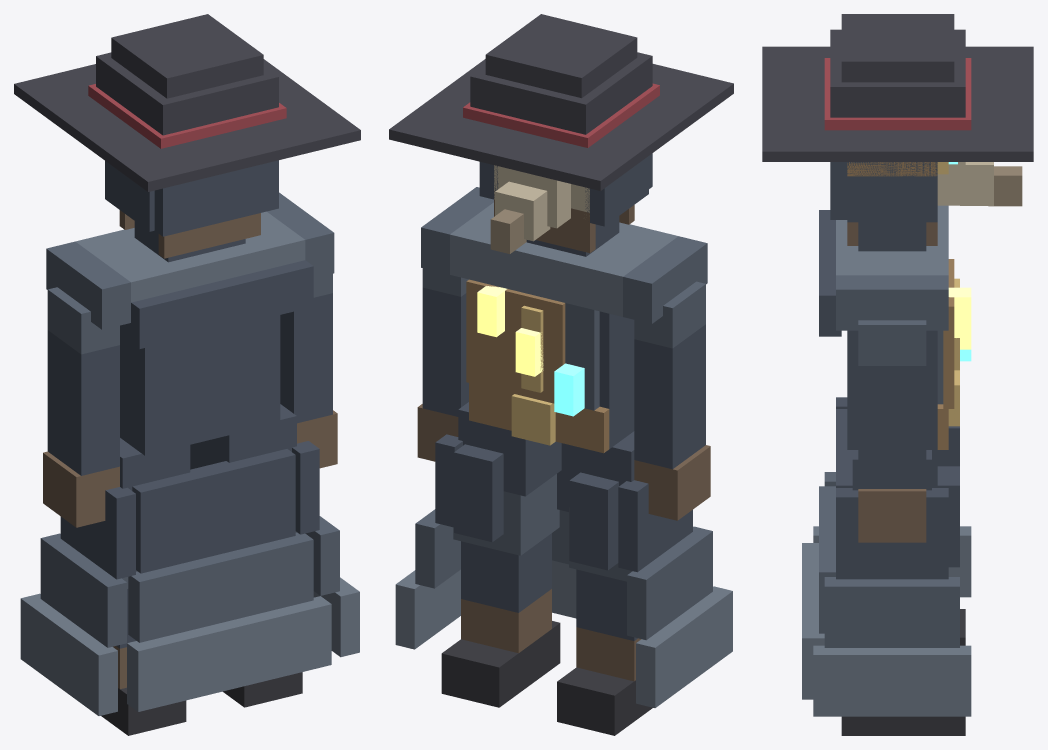
Rendered from voxel_plague_doctor_64px.glb.
The picture shows the model from 3 angles, left to right: view 1: azimuth 30°, elevation 25°; view 2: azimuth 150°, elevation 25°; view 3: azimuth 270°, elevation 25°; orthographic projection.
Parts seen in each view (by area): view 1: skirt_rear_upper, skirt_rear_lower, skirt_rear_mid, torso_core, hat_brim_back, cape_mantle_back, hat_crown_top, cape_mantle_center, skirt_side_right_lower, hat_crown_base, pelvis_core, skirt_side_right_mid (+25 smaller); view 2: cape_mantle_center, hat_brim_front, hat_crown_top, skirt_side_right_lower, hat_crown_base, potion_strap_diag, skirt_side_right_mid, shin_left, cape_mantle_right, skirt_front_fold_left, skirt_front_fold_right, upper_arm_right (+45 smaller); view 3: skirt_side_left_lower, skirt_side_left_mid, hat_brim_back, hat_brim_front, hat_crown_top, skirt_side_left_upper, hat_crown_base, cape_mantle_left, mask_hood_sides_left, upper_arm_left, forearm_left, cape_mantle_center (+26 smaller).
Part boxes in pixels (x1,y1,x2,y2): skirt_rear_upper: [132, 449, 295, 573]; skirt_rear_lower: [127, 596, 331, 711]; skirt_rear_mid: [128, 532, 313, 642]; torso_core: [120, 315, 280, 415]; hat_brim_back: [103, 97, 360, 191]; cape_mantle_back: [128, 260, 313, 349]; hat_crown_top: [111, 14, 263, 98]; cape_mantle_center: [75, 211, 305, 302]; skirt_side_right_lower: [20, 593, 117, 715]; hat_crown_base: [96, 52, 278, 135]; pelvis_core: [120, 382, 280, 455]; skirt_side_right_mid: [40, 533, 126, 647]; cape_mantle_center: [450, 202, 678, 316]; hat_brim_front: [389, 97, 644, 190]; hat_crown_top: [485, 14, 637, 98]; skirt_side_right_lower: [636, 586, 732, 707]; hat_crown_base: [470, 52, 652, 134]; potion_strap_diag: [466, 279, 565, 403]; skirt_side_right_mid: [627, 526, 712, 640]; shin_left: [461, 533, 551, 612]; cape_mantle_right: [623, 236, 707, 323]; skirt_front_fold_left: [454, 444, 503, 542]; skirt_front_fold_right: [569, 472, 618, 570]; upper_arm_right: [634, 324, 705, 408]; skirt_side_left_lower: [813, 645, 971, 716]; skirt_side_left_mid: [824, 577, 959, 647]; hat_brim_back: [762, 46, 852, 161]; hat_brim_front: [943, 46, 1033, 161]; hat_crown_top: [841, 14, 954, 82]; skirt_side_left_upper: [836, 488, 948, 579]; hat_crown_base: [830, 29, 965, 117]; cape_mantle_left: [836, 275, 948, 330]; mask_hood_sides_left: [847, 162, 937, 222]; upper_arm_left: [858, 366, 926, 427]; forearm_left: [858, 427, 926, 488]; cape_mantle_center: [836, 205, 948, 275].
Size of the model in its own units: 0.8438 by 2 by 0.75.
